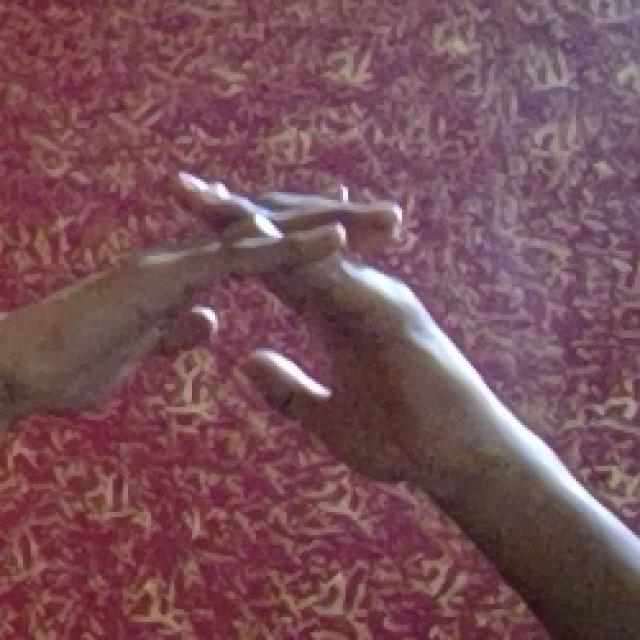Alphabet-W: (2, 135, 536, 485)
